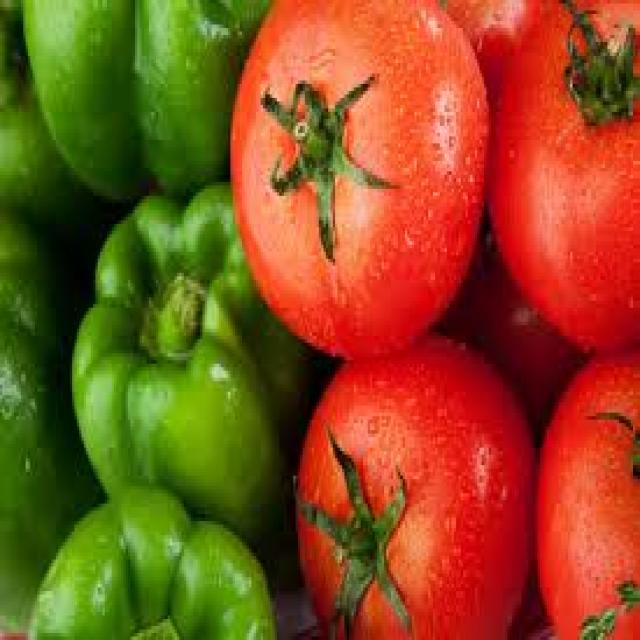organic waste: (68, 175, 307, 563), (228, 0, 486, 357), (289, 325, 533, 637), (488, 0, 638, 357), (18, 0, 265, 192), (0, 210, 107, 636), (28, 479, 272, 637), (535, 353, 638, 637), (440, 231, 577, 430), (0, 0, 104, 227)
